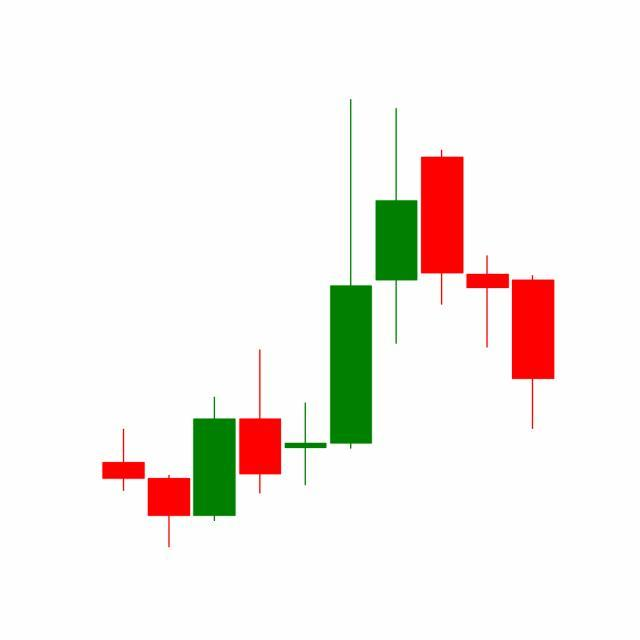Hikkake Pattern: (283, 100, 512, 491)
